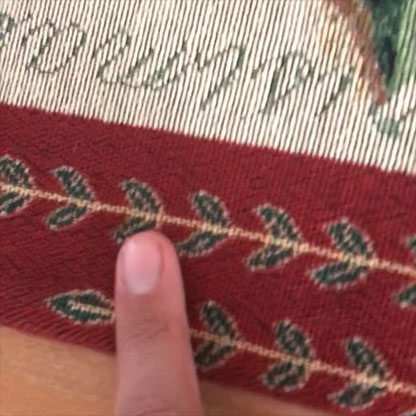fingertip: (94, 226, 203, 323)
